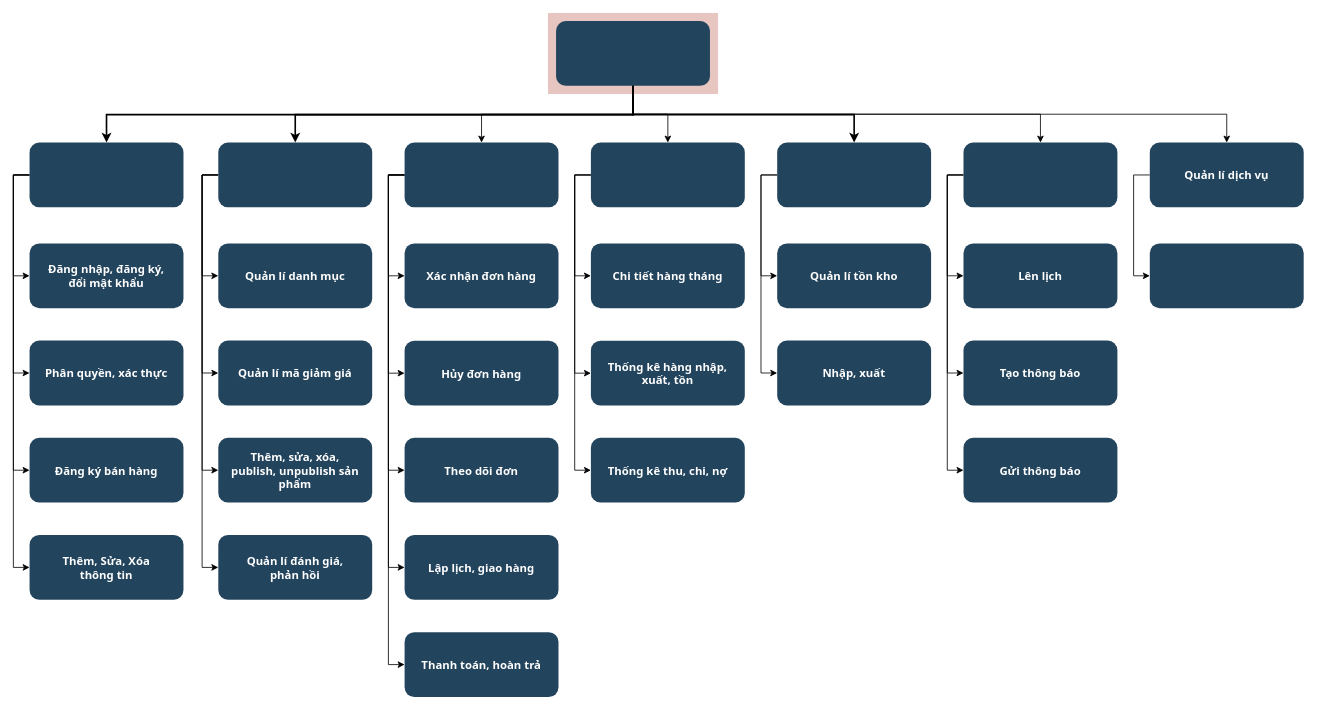
This 1317x710 diagram has some shape labels left out. The shapes that lost their labels are listed below. From the top down, each one's centre as x and y in pixels, then its label:
the point at 633,53: Quản lí bán hàng online
the point at 106,174: Quản lí người dùng
the point at 295,174: Quản lí sản phẩm
the point at 481,174: Quản lí đơn hàng
the point at 667,174: Báo cáo, thống kê
the point at 854,174: Quản lí kho
the point at 1040,174: Quản lí thông báo
the point at 1226,275: Chăm sóc khách hàng
